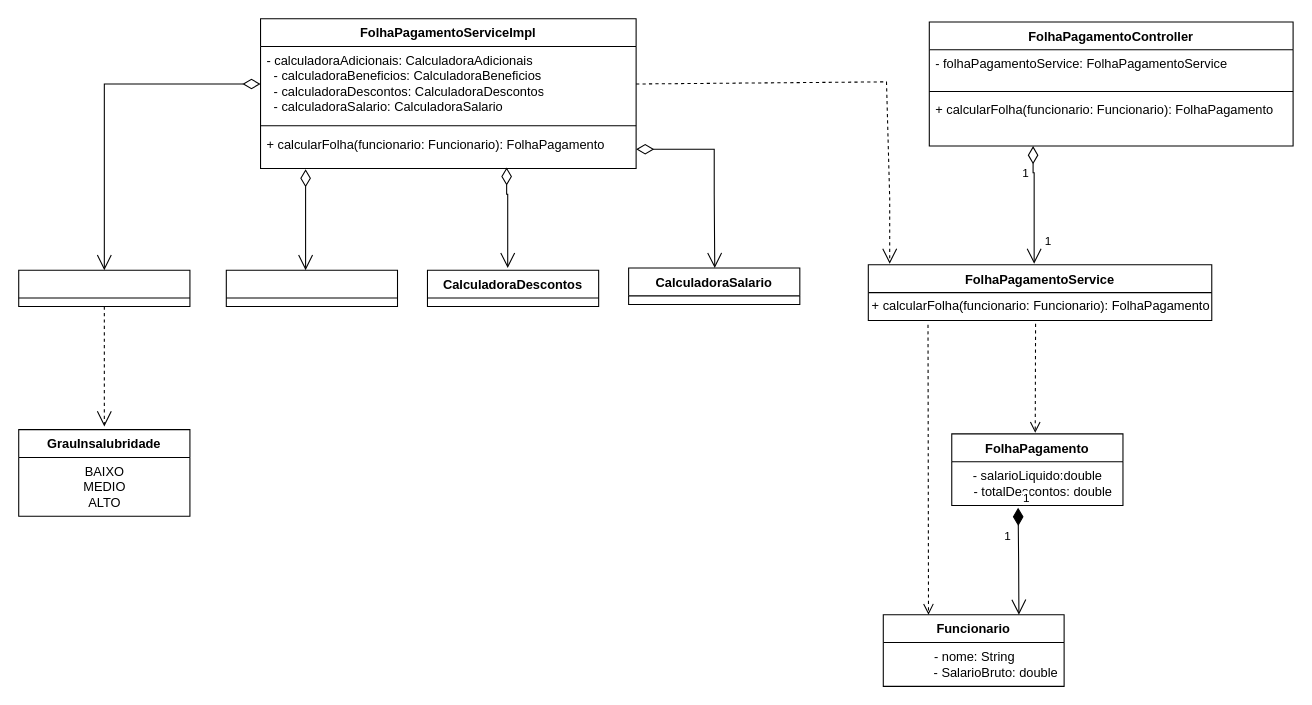
Image size: 1312x705. Some labels were removed from this diagram. The centre of each missing label's shape, as x and y in pixels:
"CalculadoraAdicionais" goes at point (104, 288).
"CalculadoraBeneficios" goes at point (311, 288).
